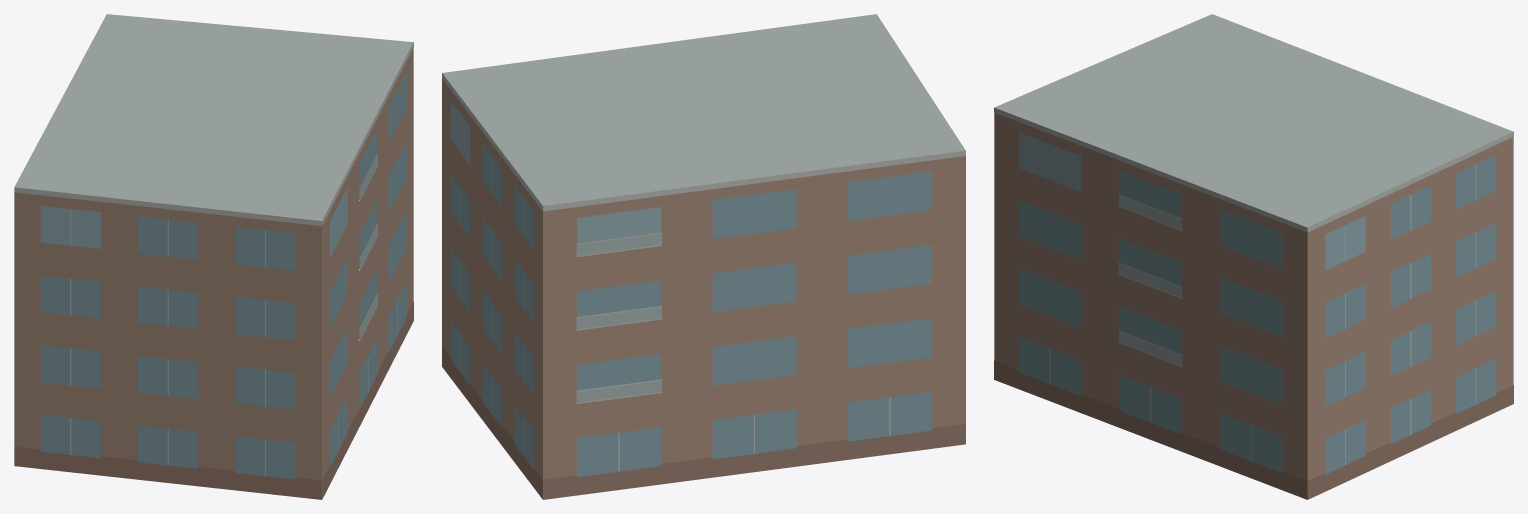
Rendered from survey-upis-32816126.glb.
3 renders of one model, left to right at view 1: azimuth 30°, elevation 25°; view 2: azimuth 150°, elevation 25°; view 3: azimuth 270°, elevation 25°, orthographic. The views are drawn at different scales.
Parts seen in each view (by area): view 1: survey-upis-32816126.tmp; view 2: survey-upis-32816126.tmp; view 3: survey-upis-32816126.tmp.
Boxes of the visible parts, box(x1,y1,x2,y2) form: survey-upis-32816126.tmp: box(14, 14, 413, 499); survey-upis-32816126.tmp: box(442, 14, 965, 499); survey-upis-32816126.tmp: box(994, 14, 1513, 499).
Bounding box in the file's own units: 22.5 × 13.37 × 23.13.
